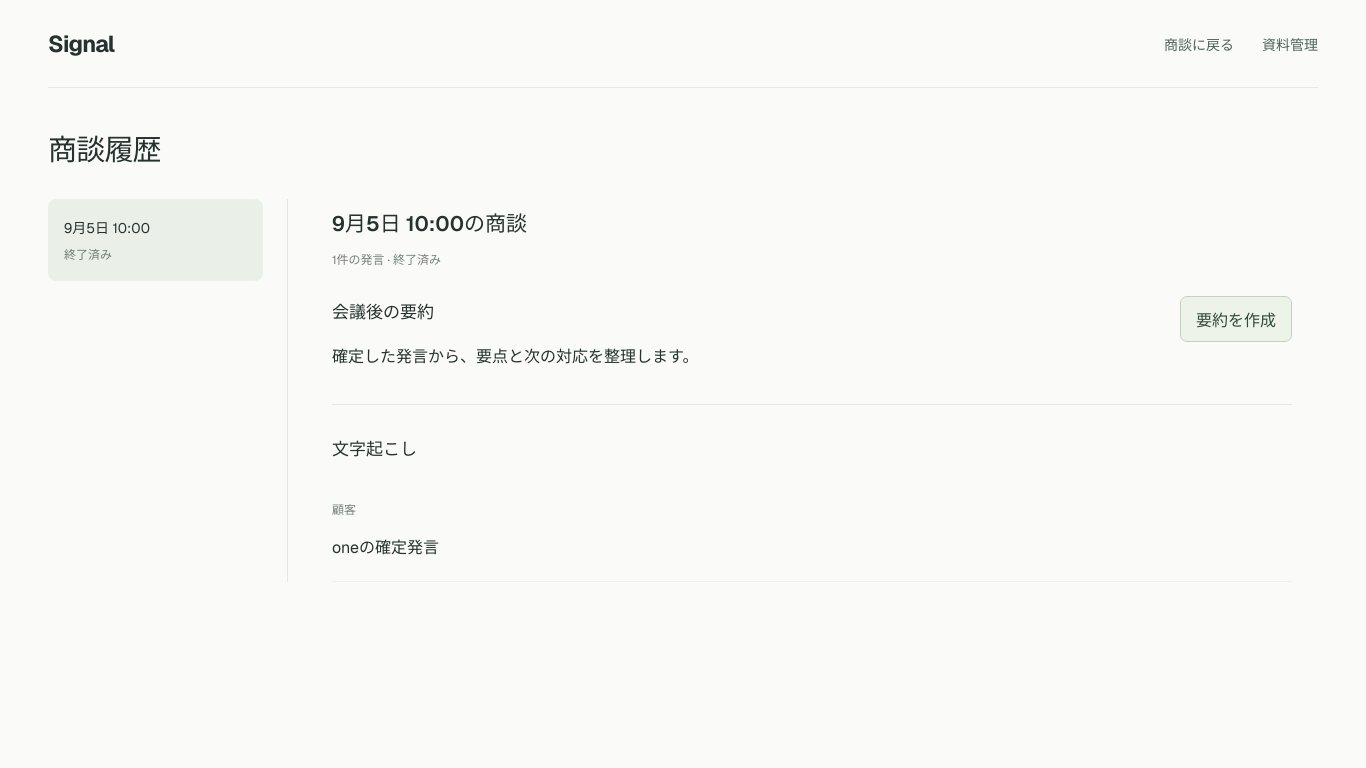
Test case: meeting history › keeps the creation action retryable after a failed POST
Click the button "要約を作成" at (1236, 319), box [1180, 296, 1292, 342]
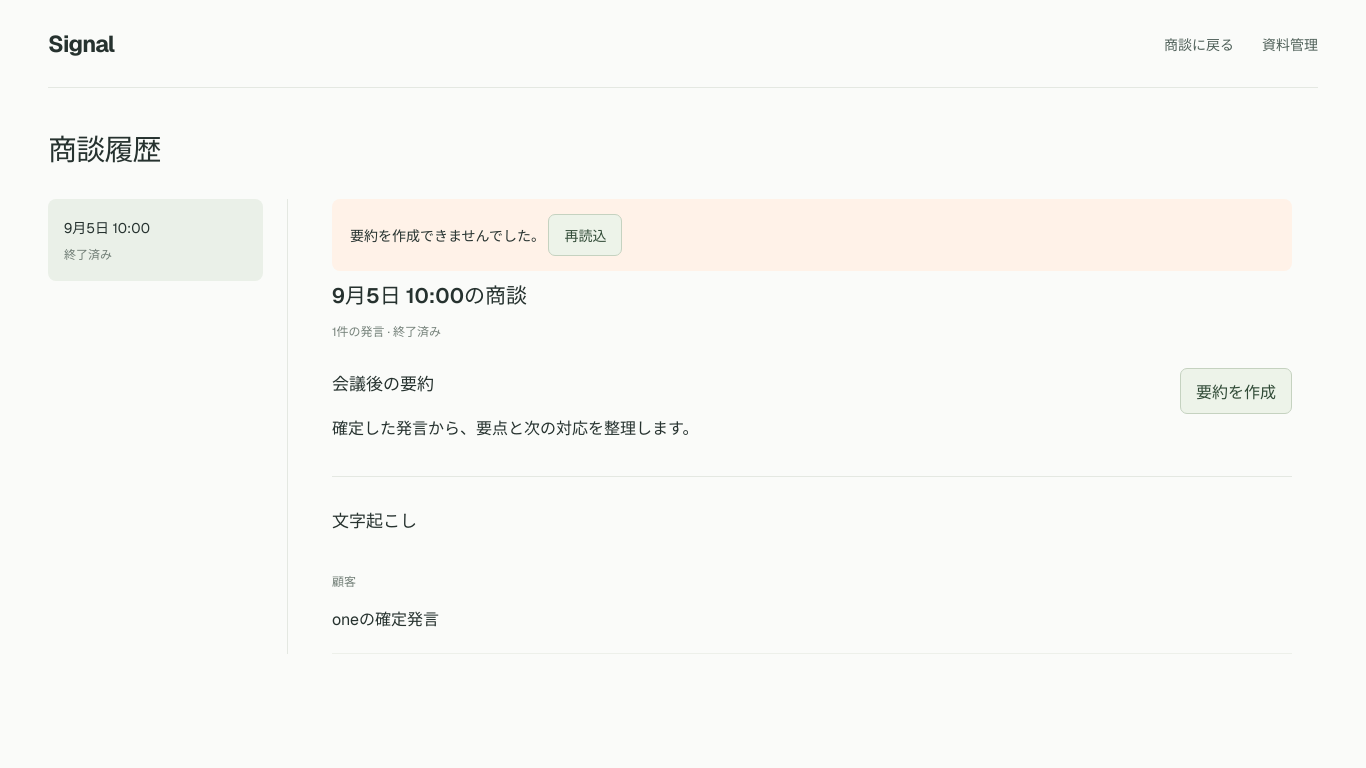
Check: the message "要約を作成できませんでした。 再読込" is shown, box [332, 199, 1292, 271]
Click the button "要約を作成" at (1236, 391), box [1180, 368, 1292, 414]
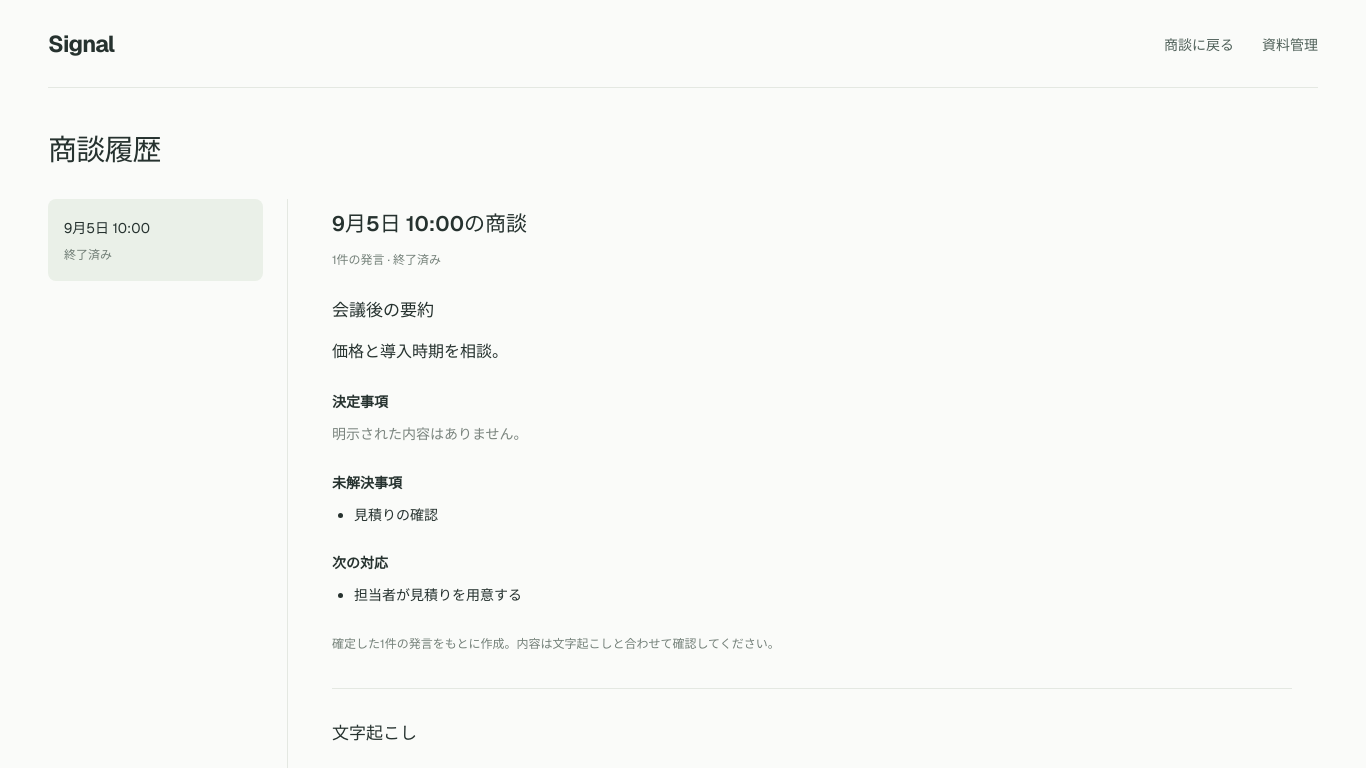
Check: the text "価格と導入時期を相談。" is shown, box [332, 341, 508, 362]
